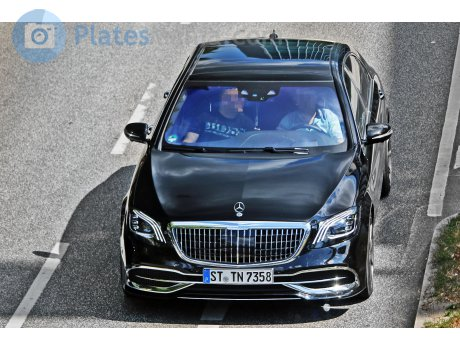License Plates: (209, 267, 273, 280)
